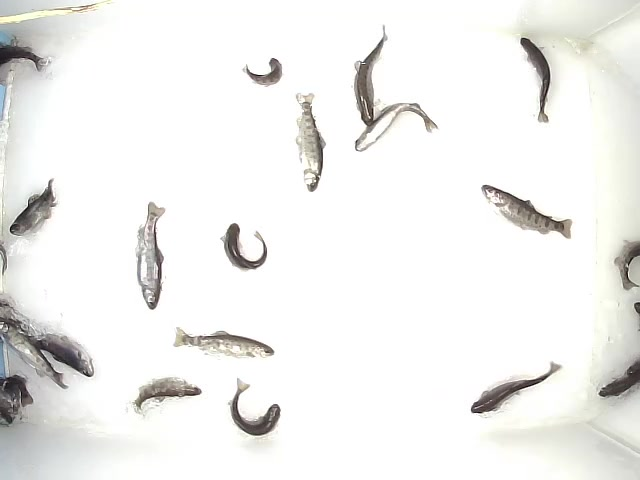fish: (468, 358, 564, 414), (480, 184, 574, 241), (1, 322, 69, 391), (355, 98, 438, 152), (345, 26, 392, 119), (135, 199, 170, 309), (170, 323, 276, 359), (291, 90, 326, 193), (226, 376, 283, 437), (5, 178, 57, 236), (133, 373, 204, 415), (30, 334, 96, 379), (520, 38, 554, 122), (219, 222, 269, 274), (242, 57, 285, 88)
